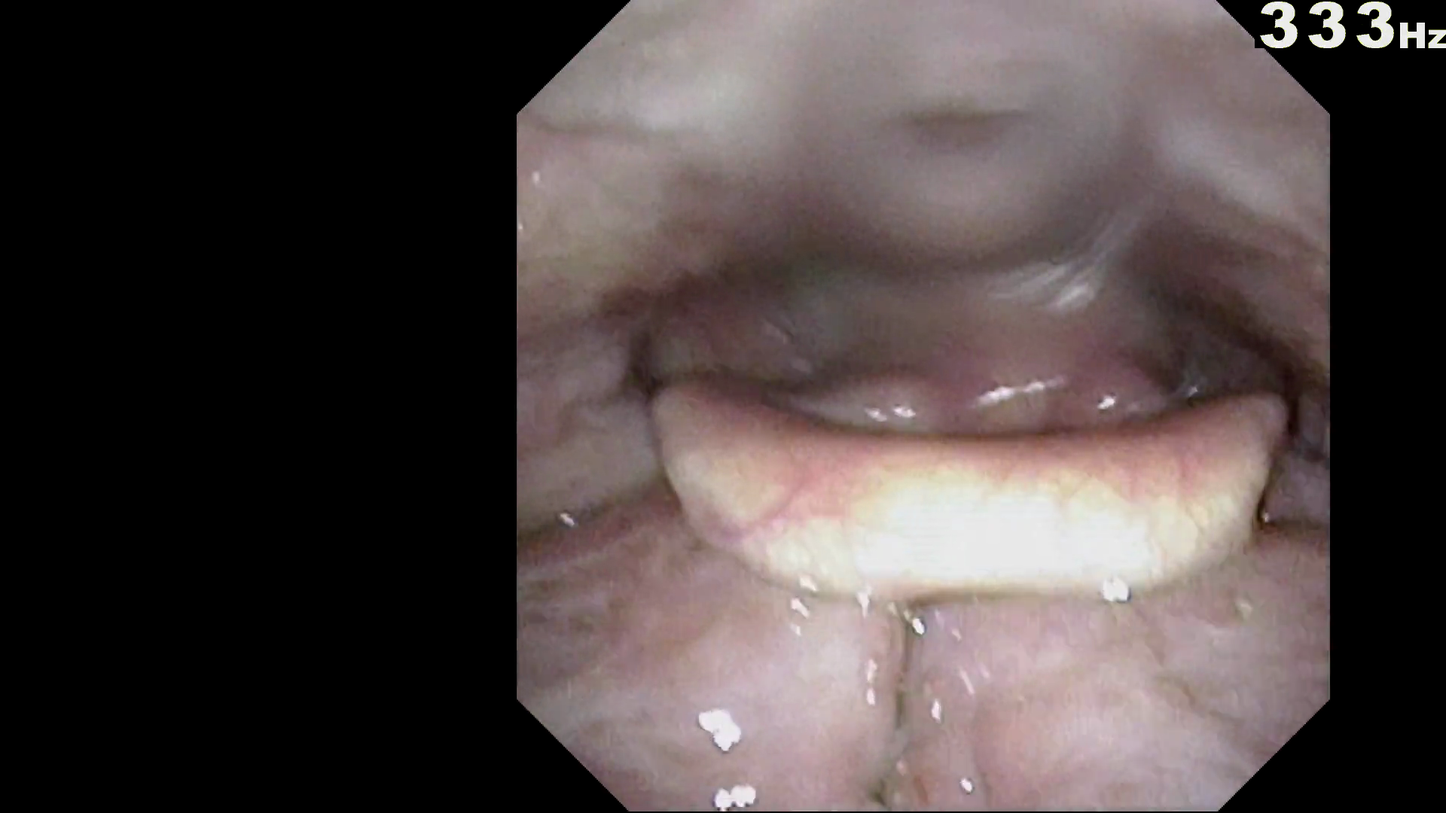epiglottis: (667, 378, 1276, 603)
trachea: (970, 487, 1033, 548)
